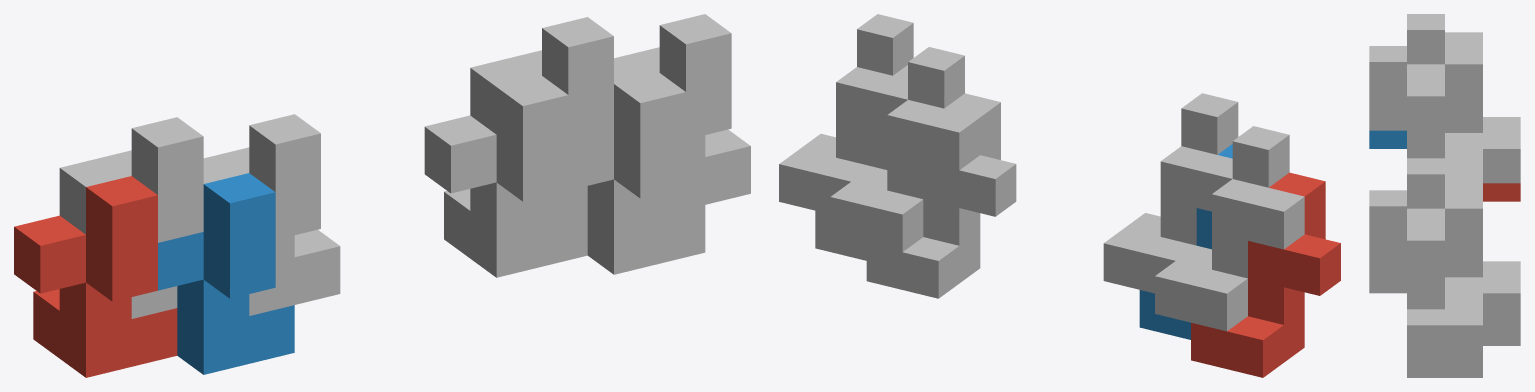
File: tiling.obj
3 views of the same model, side by side, from view 1: azimuth 30°, elevation 25°; view 2: azimuth 150°, elevation 25°; view 3: azimuth 270°, elevation 25° (orthographic). The views are drawn at different scales.
Parts seen in each view (by area): view 1: copy_1_domain_5, copy_1_domain_1, copy_1_domain_2, copy_1_domain_6, copy_1_domain_4, copy_1_domain_8, copy_1_domain_3, copy_1_domain_7; view 2: copy_1_domain_7, copy_1_domain_3, copy_1_domain_5, copy_1_domain_1, copy_1_domain_4, copy_1_domain_8, copy_1_domain_2, copy_1_domain_6; view 3: copy_1_domain_8, copy_1_domain_7, copy_1_domain_3, copy_1_domain_4, copy_1_domain_6, copy_1_domain_1, copy_1_domain_2, copy_1_domain_5.
Boxes of the visible parts, box(x1,y1,x2,y2) form: copy_1_domain_5: box(424, 76, 587, 277); copy_1_domain_1: box(14, 176, 177, 377); copy_1_domain_2: box(158, 173, 294, 374); copy_1_domain_6: box(568, 73, 705, 274); copy_1_domain_4: box(203, 114, 340, 315); copy_1_domain_8: box(614, 14, 750, 215); copy_1_domain_3: box(59, 117, 203, 318); copy_1_domain_7: box(470, 17, 613, 218); copy_1_domain_7: box(830, 47, 980, 252); copy_1_domain_3: box(1155, 126, 1304, 331); copy_1_domain_5: box(866, 93, 1016, 298); copy_1_domain_1: box(1191, 172, 1340, 377); copy_1_domain_4: box(1103, 93, 1238, 293); copy_1_domain_8: box(779, 14, 913, 213); copy_1_domain_2: box(1139, 144, 1232, 339); copy_1_domain_6: box(815, 65, 907, 260); copy_1_domain_8: box(1369, 190, 1482, 359); copy_1_domain_7: box(1407, 158, 1520, 327); copy_1_domain_3: box(1407, 14, 1520, 183); copy_1_domain_4: box(1369, 46, 1482, 176); copy_1_domain_6: box(1369, 275, 1482, 377); copy_1_domain_1: box(1483, 183, 1520, 201); copy_1_domain_2: box(1369, 130, 1406, 148); copy_1_domain_5: box(1483, 327, 1520, 345).
Bounding box in the file's own units: 15 × 5 × 4.
